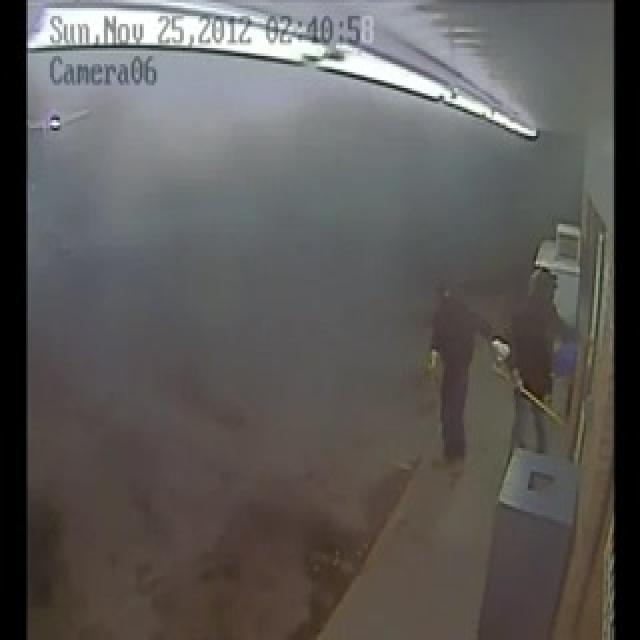thief: (500, 265, 565, 459), (428, 283, 477, 463)
